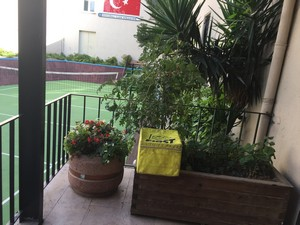cube: (137, 127, 181, 177)
